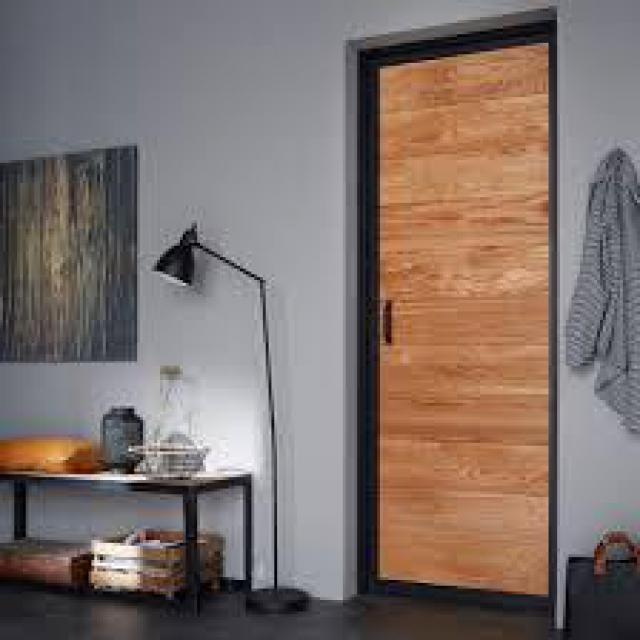door: (356, 15, 554, 601)
